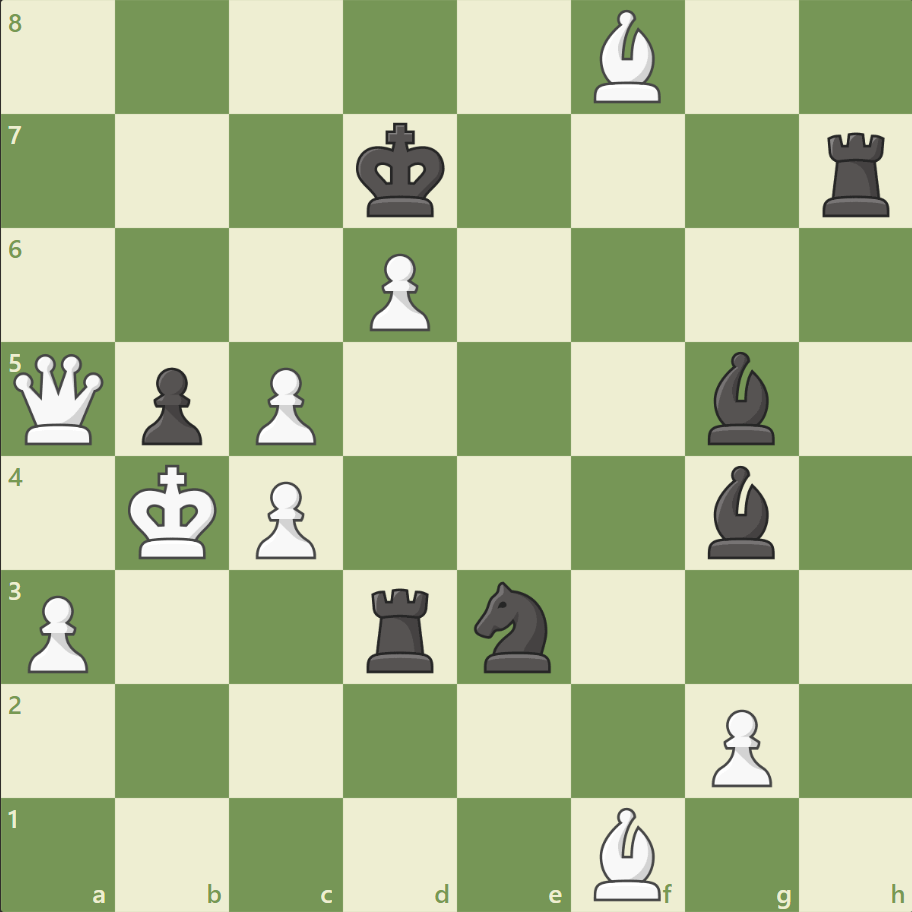B: (585, 6, 669, 109), (585, 801, 669, 904)
K: (124, 458, 224, 566)
P: (247, 359, 322, 450), (247, 473, 322, 564), (20, 586, 95, 677), (701, 700, 776, 791), (361, 246, 435, 337)
Q: (10, 349, 109, 449)
b: (698, 460, 782, 563), (698, 347, 782, 449)
k: (351, 117, 451, 225)
n: (465, 575, 562, 677)
p: (133, 359, 208, 450)
r: (814, 125, 897, 222), (360, 579, 442, 676)
